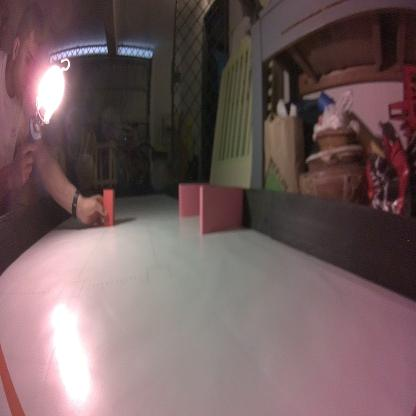magenta: (197, 181, 241, 233), (178, 180, 214, 218)
red: (103, 186, 115, 226)
